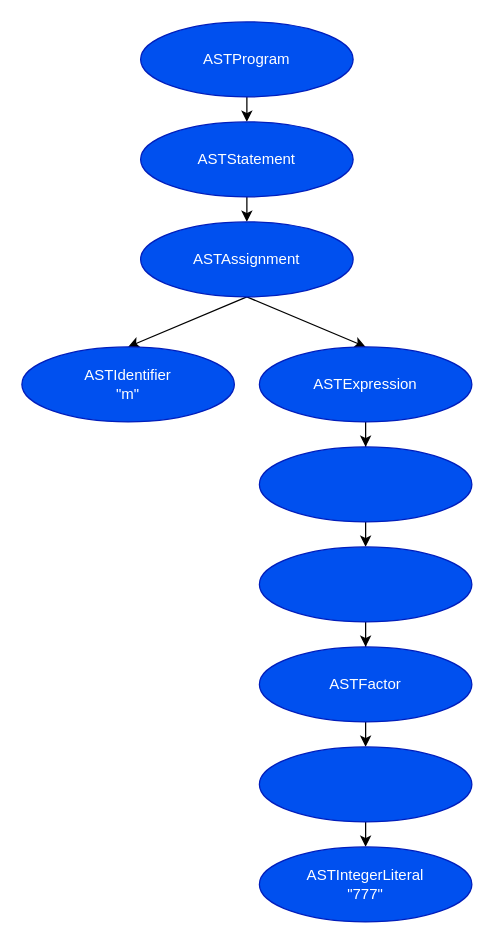
Some shapes in this 494 by 944 pixel diagram are drawn without their labels. The centre of each missing label's shape, as x and y in pixels:
ASTLiteral: point 365,784
ASTSimpleExpression: point 365,484
ASTTerm: point 365,584
